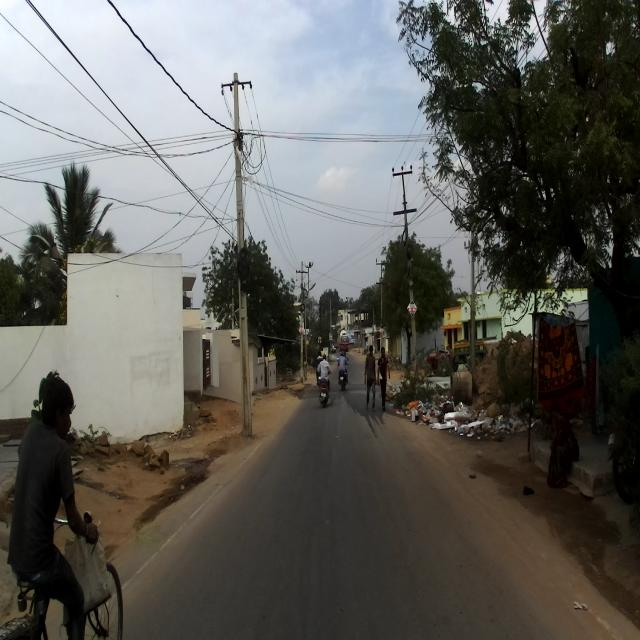car ahead at: (220, 64, 266, 432)
